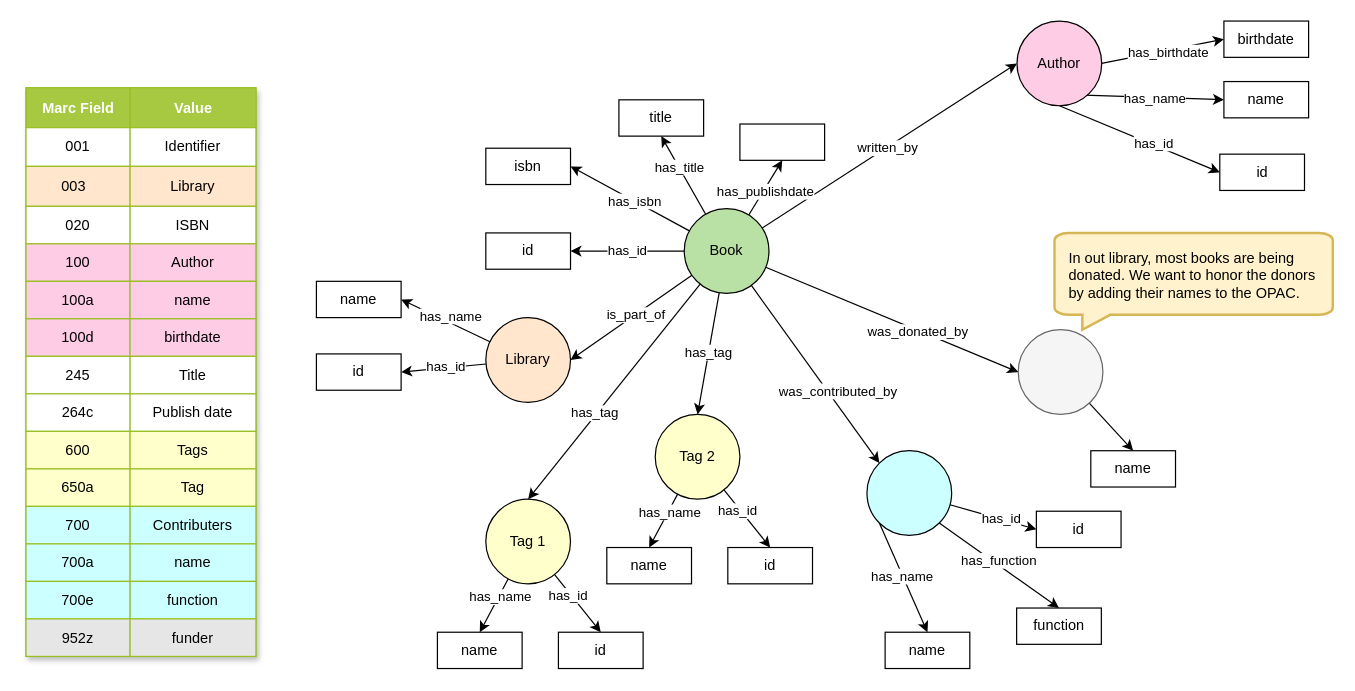
The diagram is 1355 pixels wide and 691 high, and some of its shapes have lost their labels. The centre of each missing label's shape, as x and y in pixels:
Contributor: [909,492]
Donor: [1060,371]
publiush-date: [782,141]
